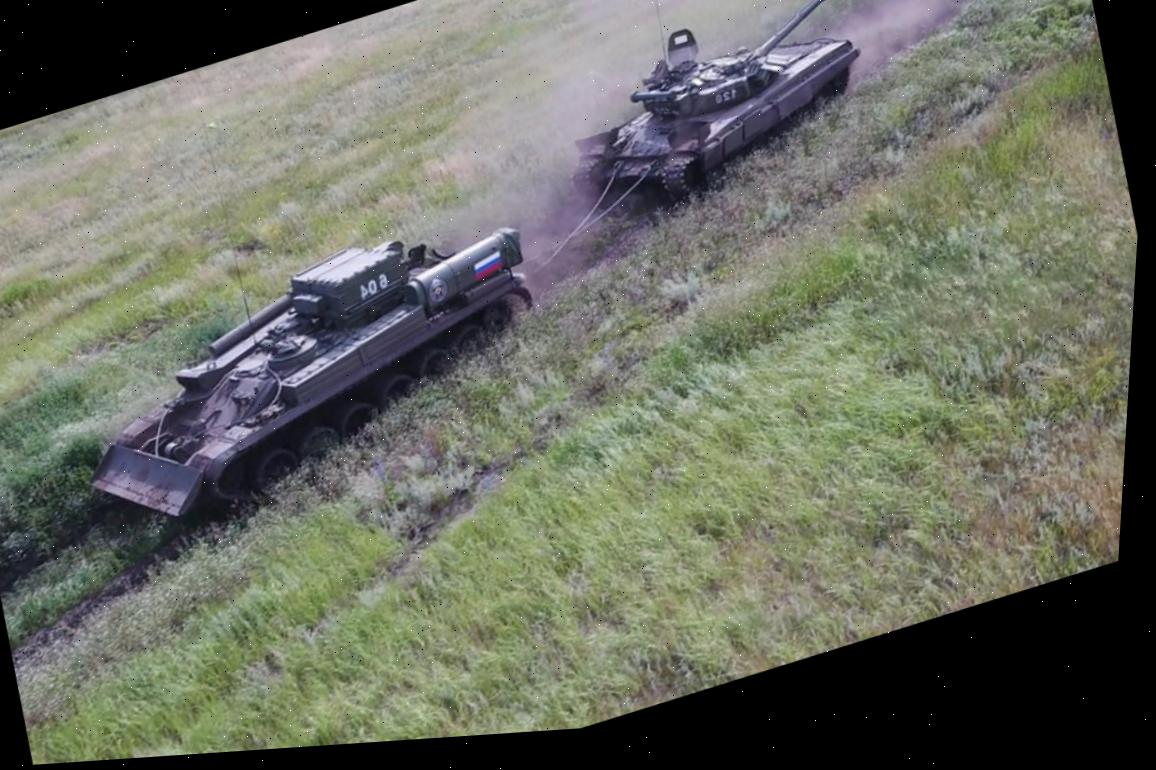tank: (43, 189, 572, 564), (529, 0, 933, 239)
